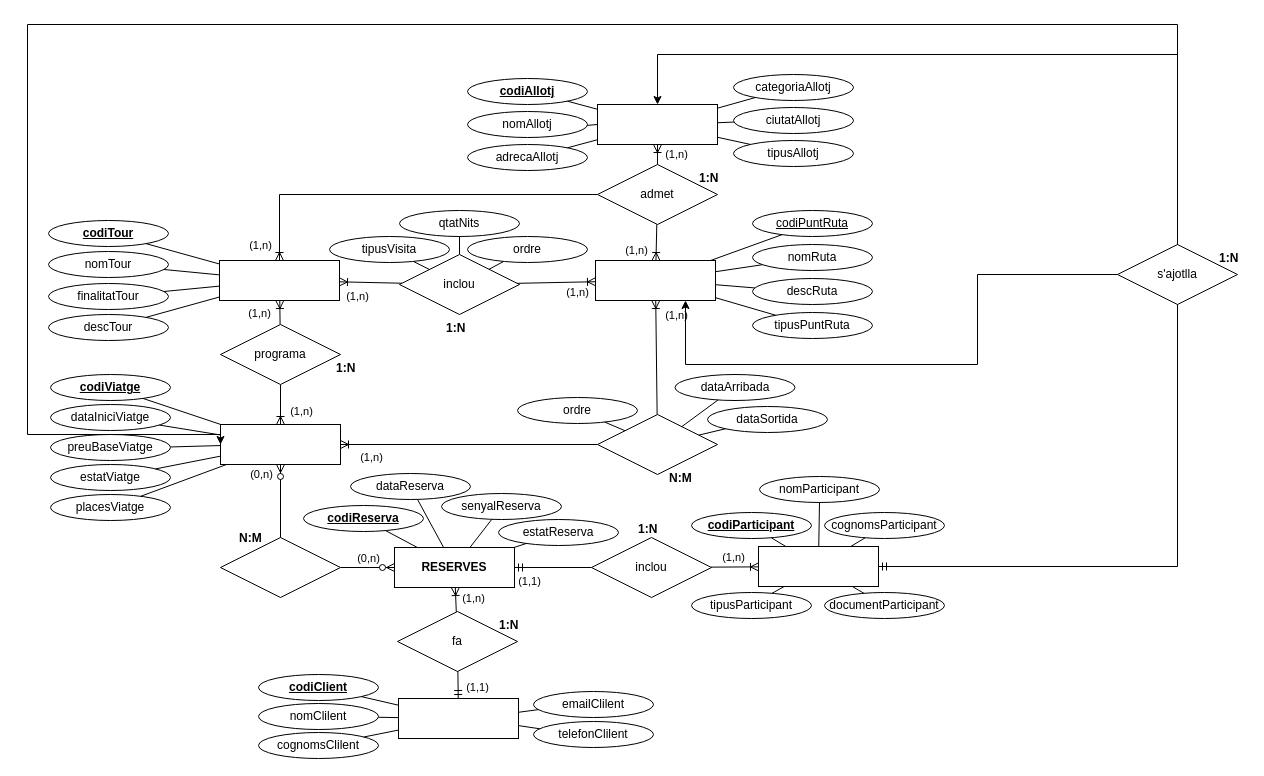
Some shapes in this 1264 by 776 pixel diagram are drawn without their labels. Each missing label, with the centre of its shape:
ALLOTJAMENTS: the point at 657,124
CLIENT: the point at 458,718
correspon: the point at 280,567
PARTICIPANTS: the point at 818,566
programaPunts: the point at 657,444
PUNTS_RUTA: the point at 655,280
TOURS: the point at 279,280
VIATGES: the point at 280,444
